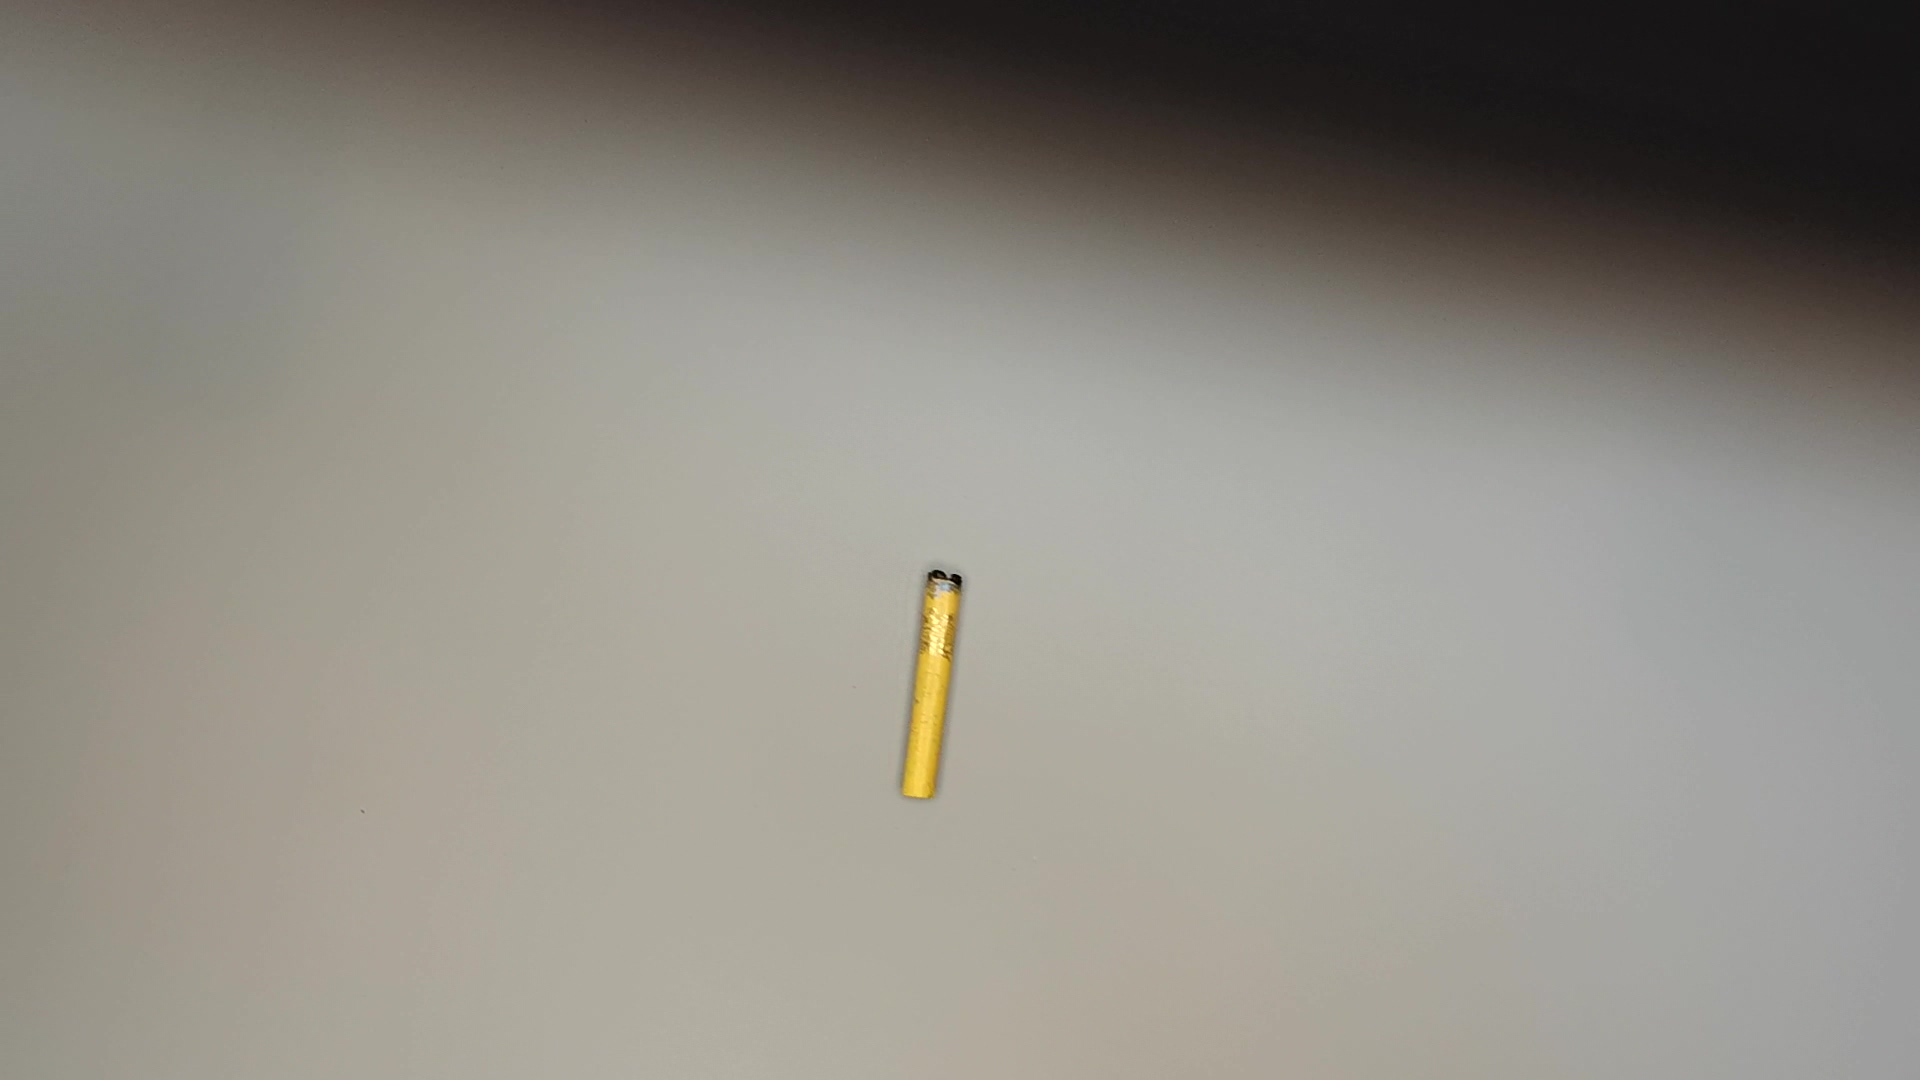cigarette: (893, 568, 975, 812)
